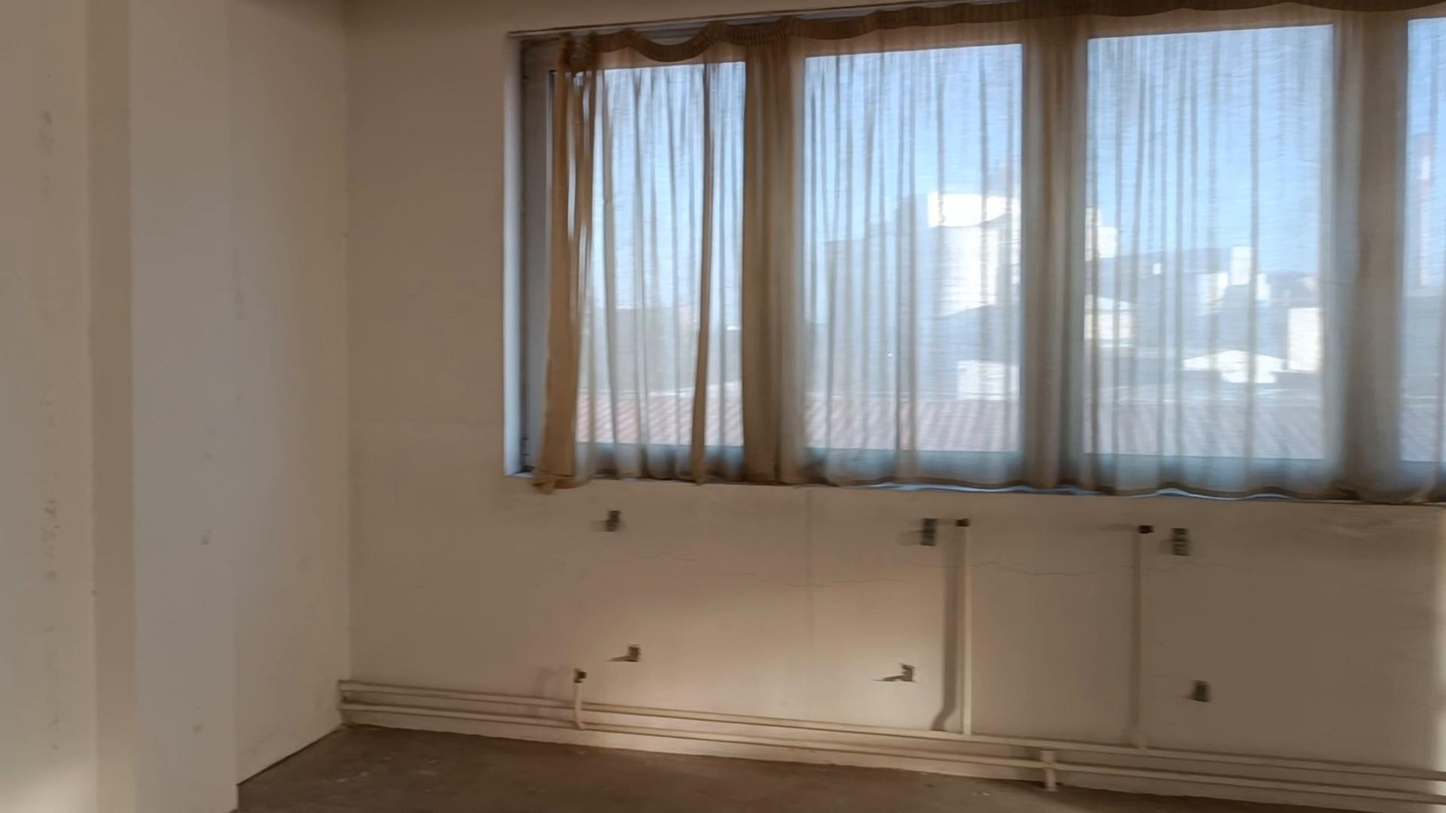floor: (233, 726, 1344, 812)
wall: (0, 0, 1445, 812), (0, 0, 348, 812)
